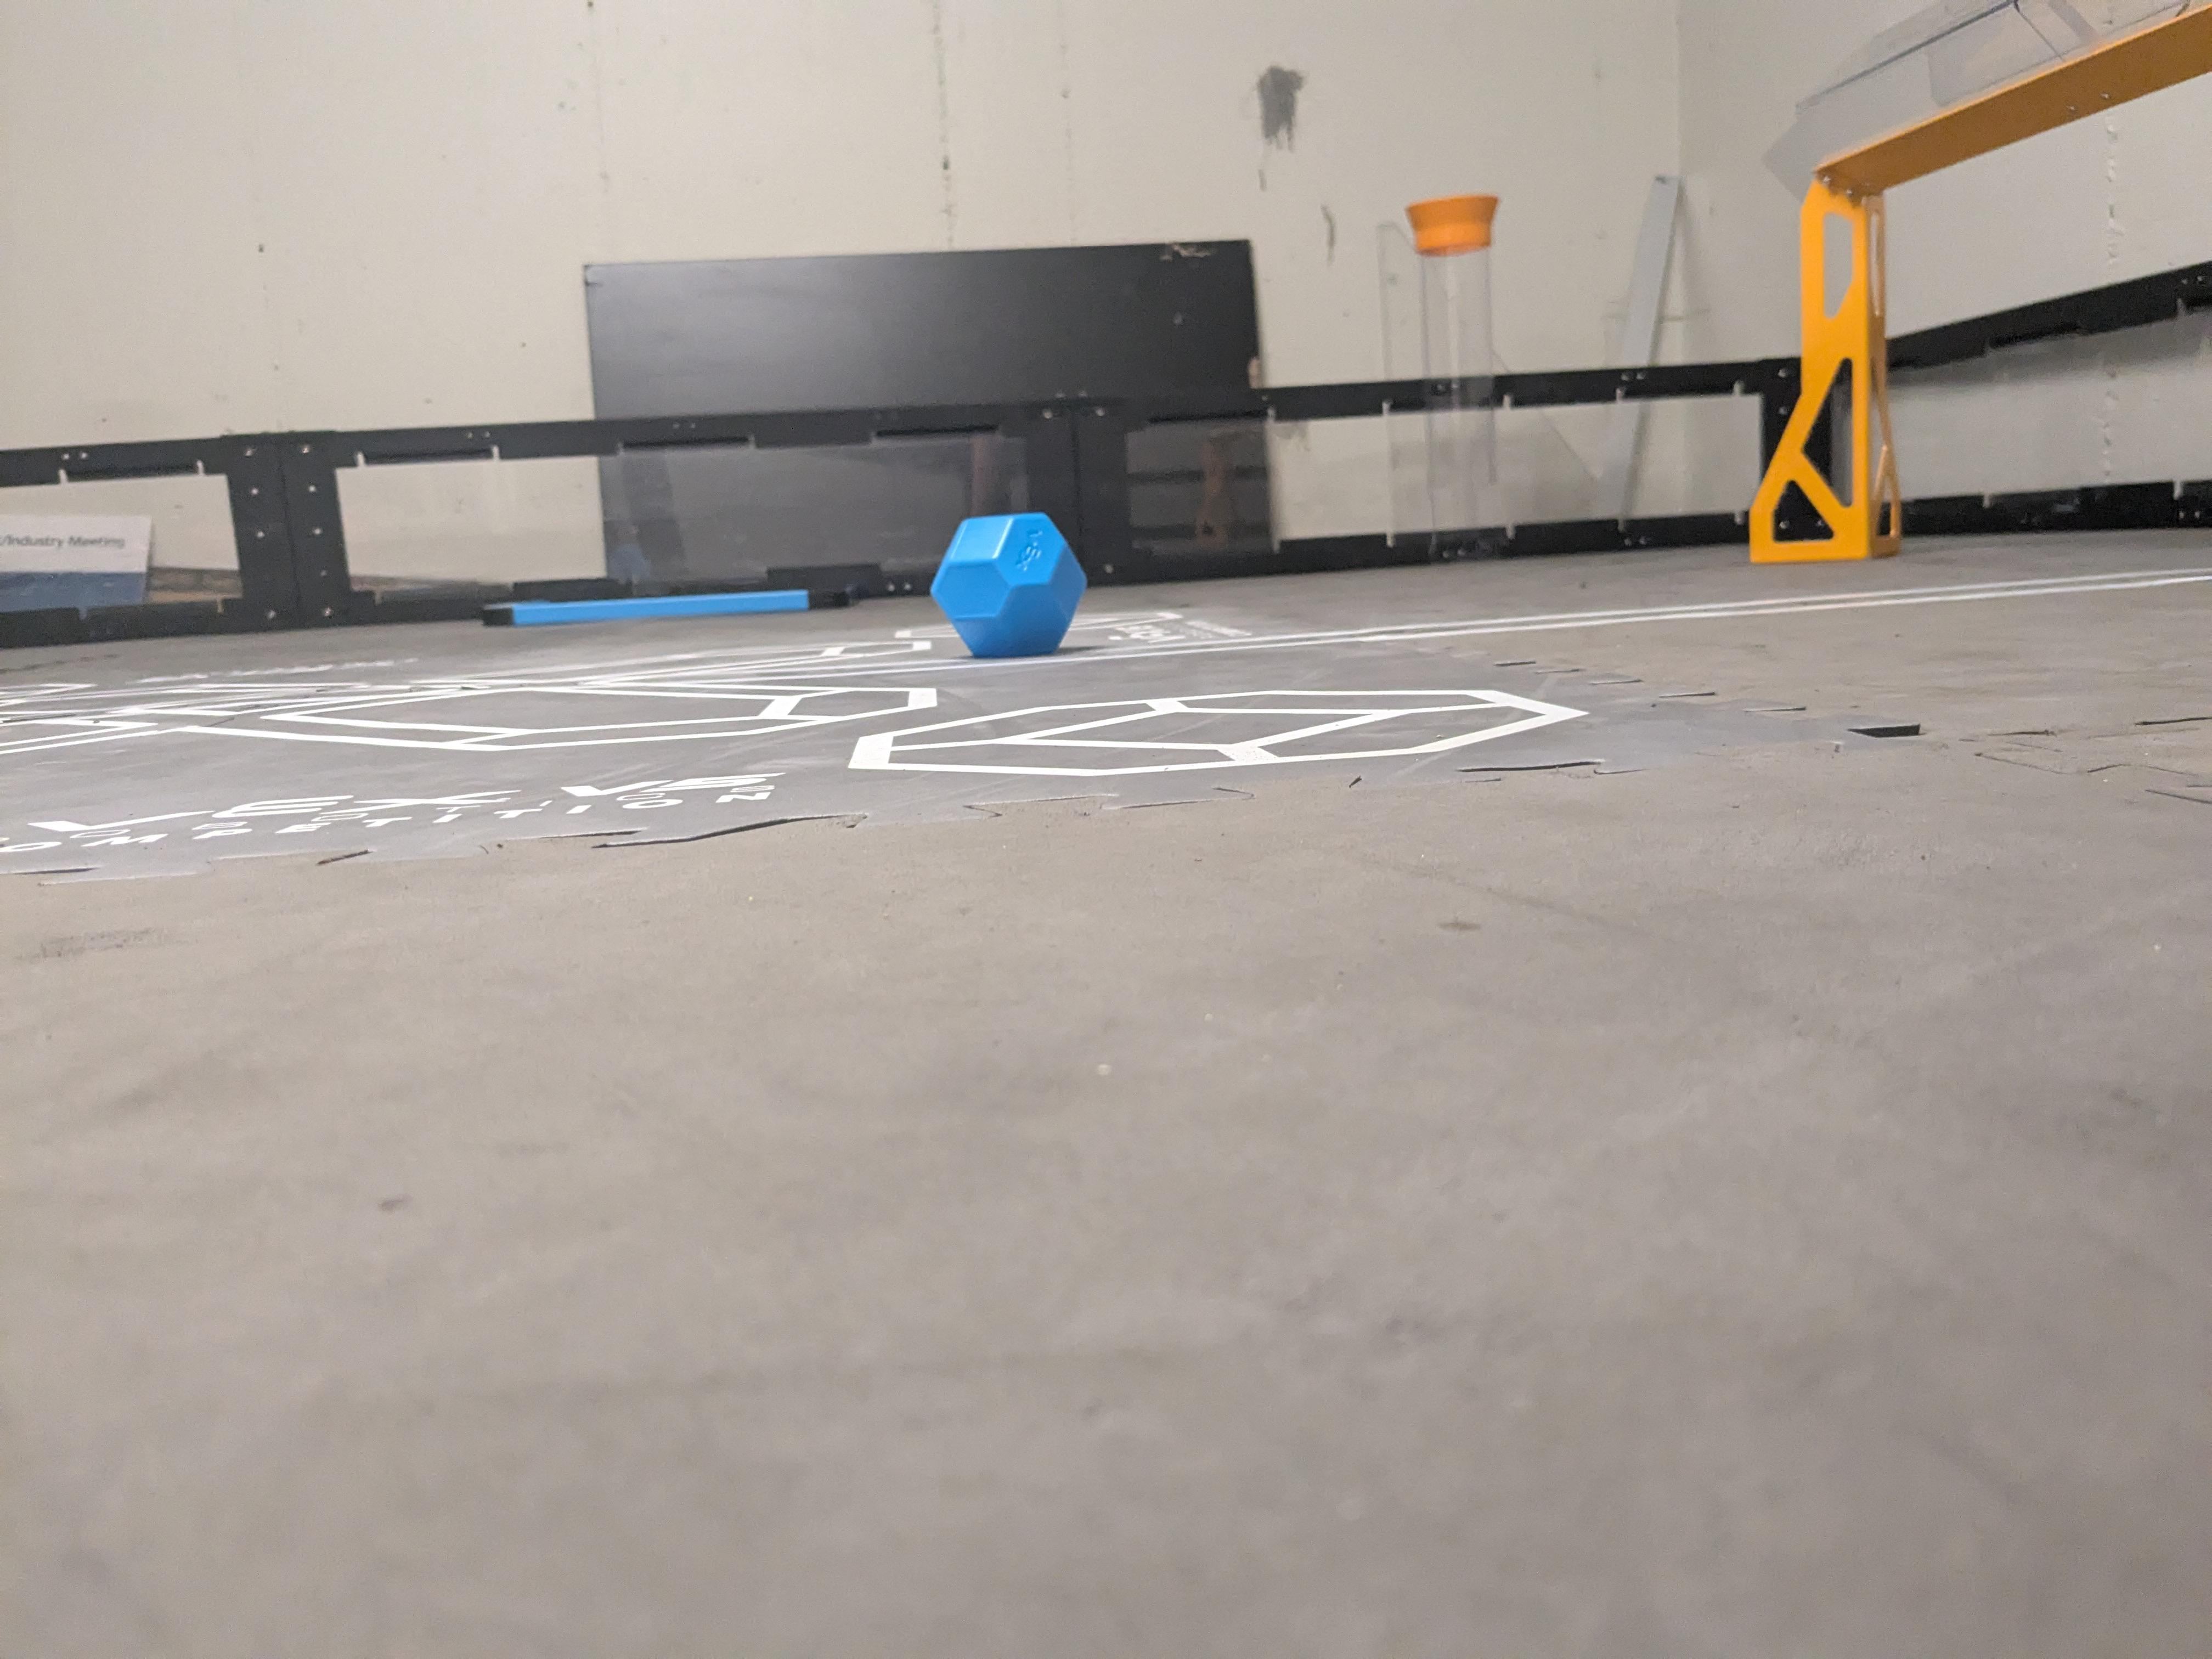Vex-Pieces-BLUE: (934, 516, 1085, 659)
